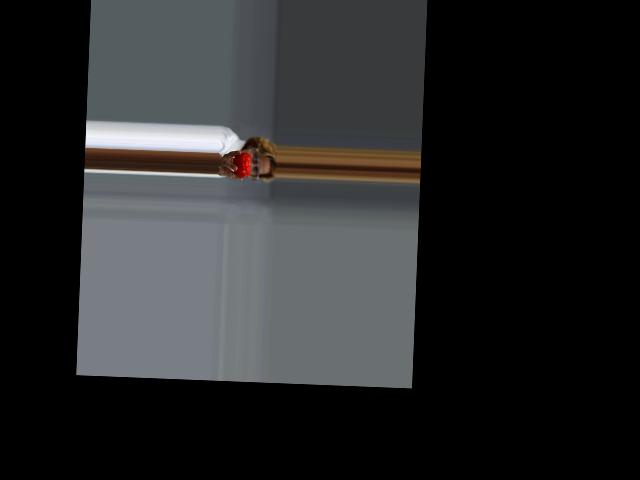tomato: (232, 151, 250, 177)
